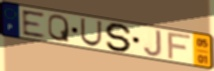E: (20, 9, 47, 39)
F: (167, 32, 193, 61)
J: (143, 29, 164, 58)
Q: (47, 14, 71, 44)
S: (104, 22, 135, 53)
U: (79, 17, 103, 48)
